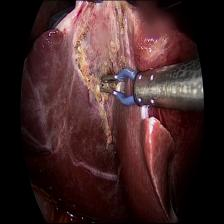Bipolar: (99, 60, 162, 111)
